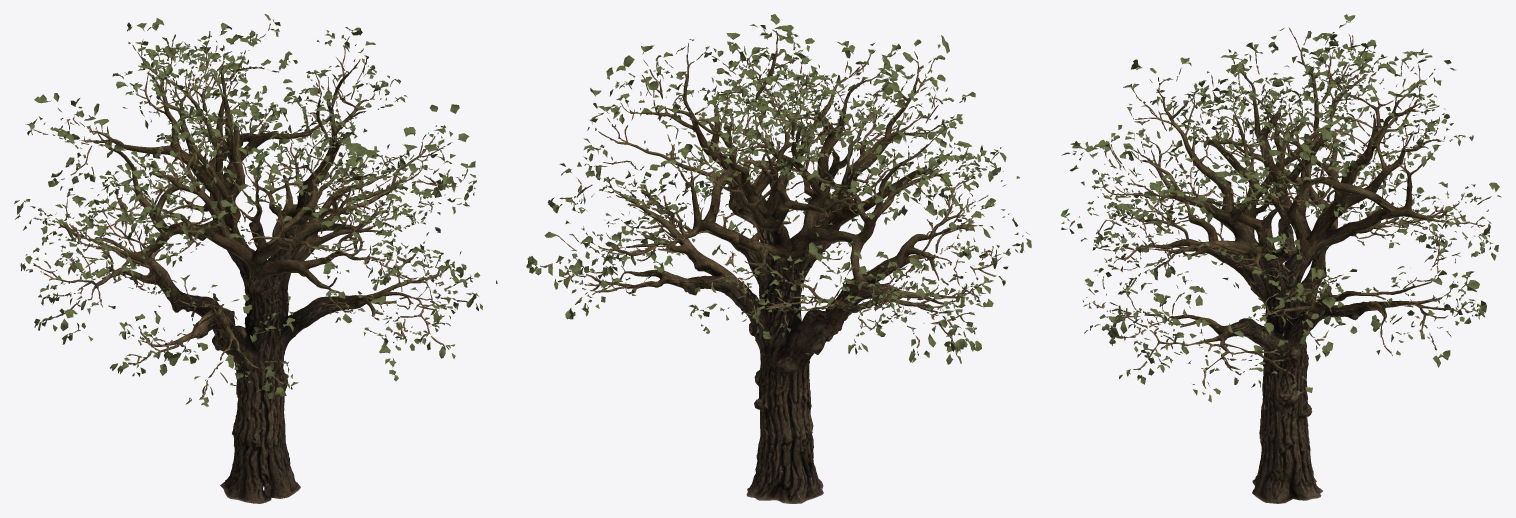
File: tree_broad.glb
3 renders of one model, left to right at view 1: azimuth 30°, elevation 25°; view 2: azimuth 150°, elevation 25°; view 3: azimuth 270°, elevation 25°, orthographic. The views are drawn at different scales.
Visible parts, largest first — view 1: world; view 2: world; view 3: world.
Boxes of the visible parts, x1,y1,x2,y2 form: world: [14, 14, 497, 503]; world: [526, 14, 1031, 503]; world: [1060, 14, 1501, 503].
Size of the model in its own units: 0.968 by 0.9769 by 0.8978.
Materials: 1 (1 with a texture image).
